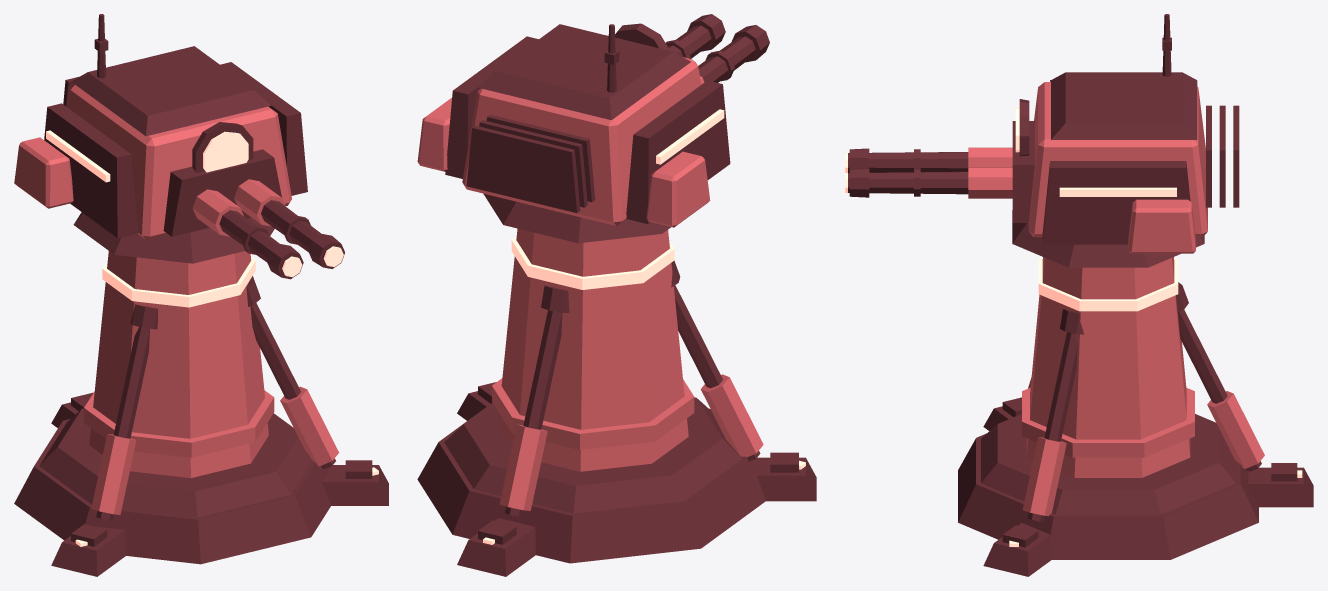
The model's file is enemy_turret.glb.
The picture shows the model from 3 angles, left to right: view 1: azimuth 30°, elevation 25°; view 2: azimuth 150°, elevation 25°; view 3: azimuth 270°, elevation 25°; orthographic projection. The views are drawn at different scales.
Visible parts, largest first — view 1: column, base, head_plate, head, cheek_R, mantlet, collar, pod_R, foot_1, piston_1, cheek_L, foot_2 (+13 smaller); view 2: column, base, head_plate, head, fin_2, cheek_R, collar, pod_R, foot_0, piston_0, cheek_L, piston_sleeve_0 (+13 smaller); view 3: column, base, head_plate, cheek_L, head, pod_L, collar, barrel_L, foot_0, barrel_R, foot_2, piston_2 (+13 smaller).
Part boxes in pixels (left/top/right/bottom): column: left=84, top=251, right=274, bottom=477; base: left=14, top=408, right=331, bottom=564; head_plate: left=71, top=46, right=270, bottom=136; head: left=67, top=85, right=291, bottom=239; cheek_R: left=44, top=103, right=137, bottom=238; mantlet: left=163, top=149, right=281, bottom=236; collar: left=73, top=212, right=274, bottom=263; pod_R: left=14, top=137, right=73, bottom=208; foot_1: left=51, top=524, right=125, bottom=576; piston_1: left=96, top=304, right=157, bottom=520; cheek_L: left=220, top=62, right=307, bottom=195; foot_2: left=322, top=460, right=388, bottom=505; column: left=492, top=228, right=694, bottom=471; base: left=417, top=397, right=765, bottom=563; head_plate: left=478, top=24, right=690, bottom=120; head: left=462, top=57, right=701, bottom=225; fin_2: left=466, top=125, right=580, bottom=212; cheek_R: left=626, top=80, right=730, bottom=223; collar: left=483, top=193, right=670, bottom=243; pod_R: left=646, top=151, right=710, bottom=227; foot_0: left=457, top=518, right=535, bottom=576; piston_0: left=505, top=285, right=569, bottom=516; cheek_L: left=445, top=36, right=538, bottom=178; piston_sleeve_0: left=499, top=424, right=547, bottom=510; column: left=1022, top=257, right=1194, bottom=477; base: left=958, top=414, right=1258, bottom=559; head_plate: left=1051, top=72, right=1197, bottom=139; cheek_L: left=1042, top=161, right=1190, bottom=244; head: left=1028, top=82, right=1207, bottom=237; pod_L: left=1128, top=199, right=1195, bottom=253; collar: left=1012, top=210, right=1204, bottom=267; barrel_L: left=848, top=168, right=968, bottom=197; foot_0: left=1248, top=463, right=1313, bottom=507; barrel_R: left=848, top=148, right=968, bottom=172; foot_2: left=983, top=523, right=1051, bottom=576; piston_2: left=1027, top=309, right=1084, bottom=521.
Bounding box in the file's own units: 1.17 × 1.56 × 1.44.
